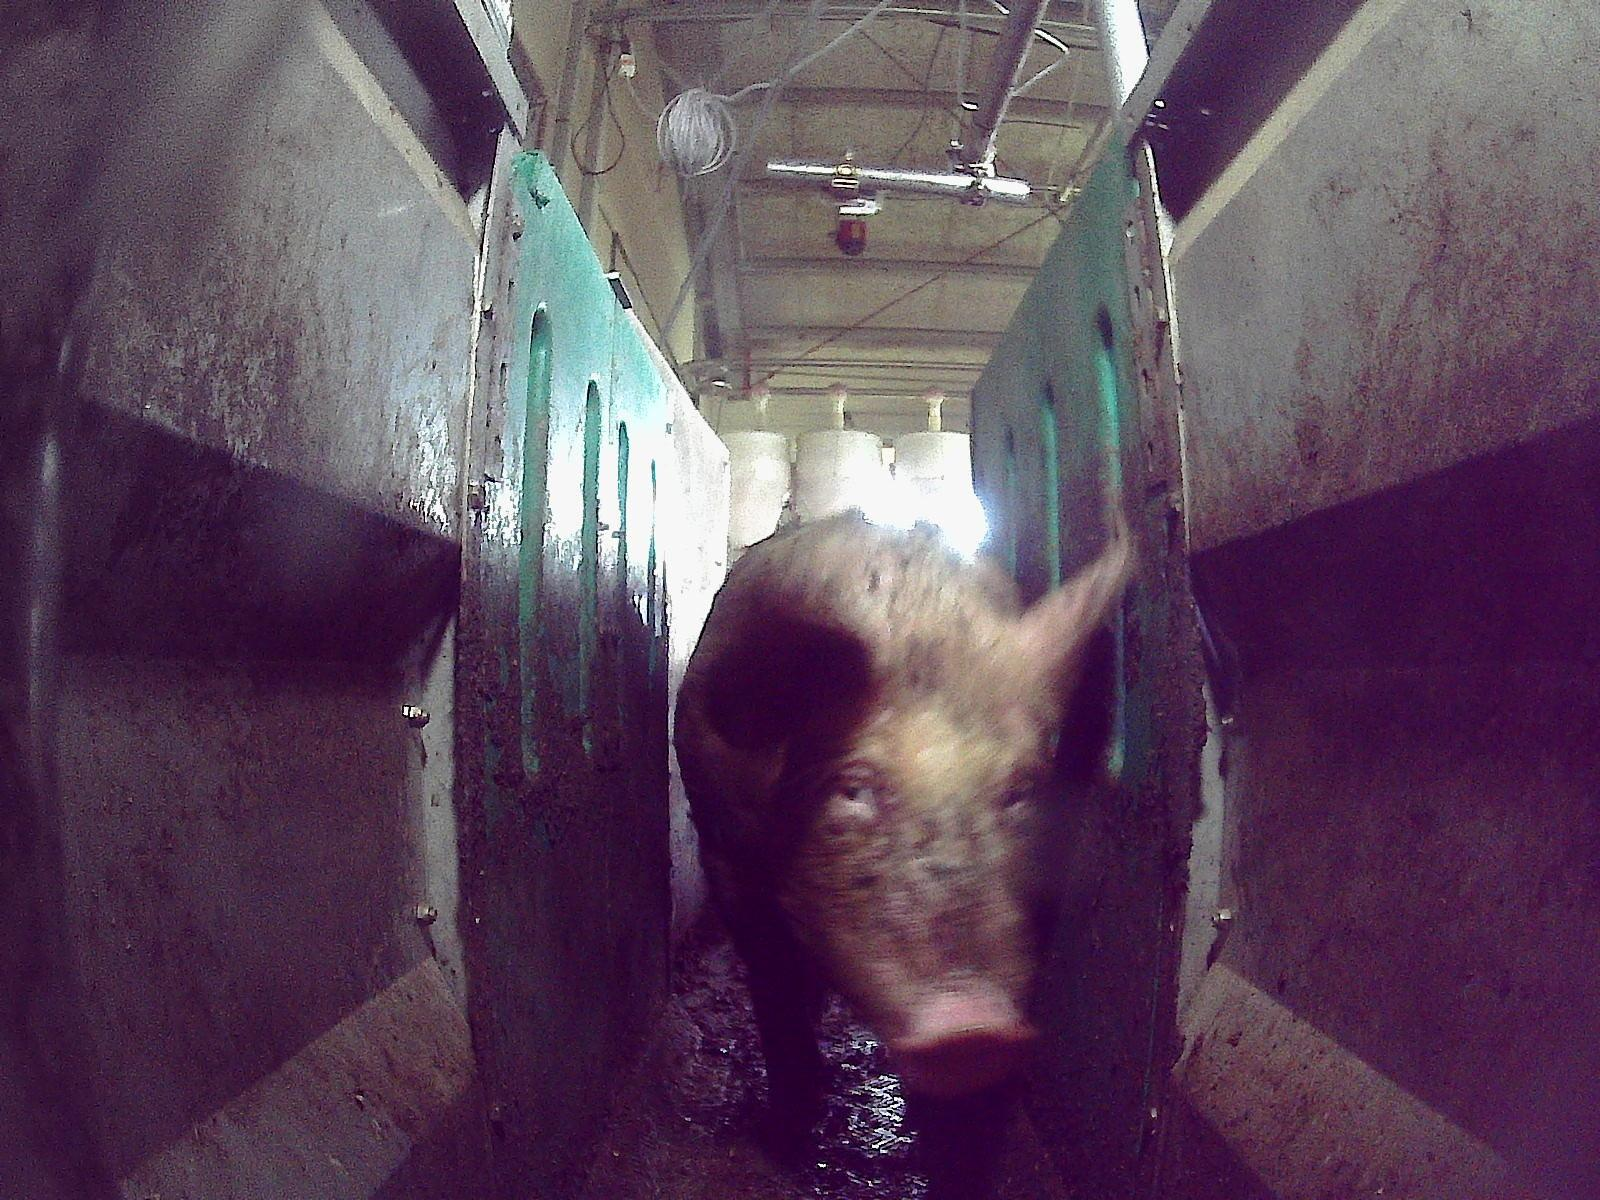Face: (768, 664, 1053, 1092)
